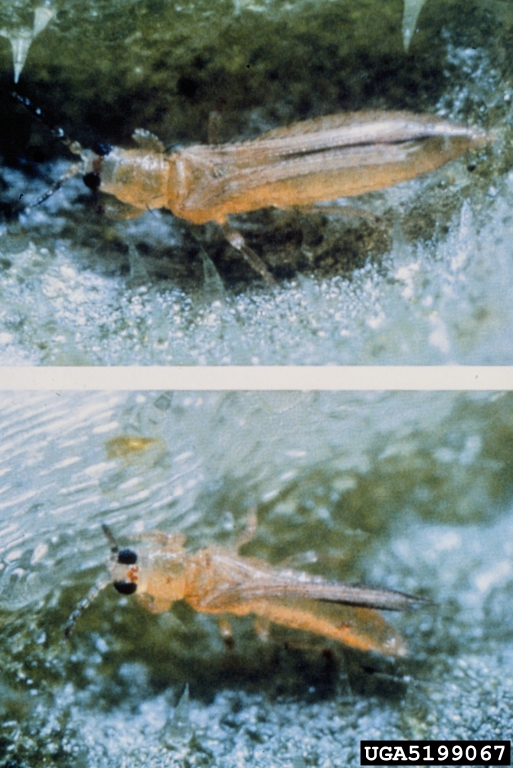Thrips: (34, 89, 490, 239), (85, 491, 409, 687)
